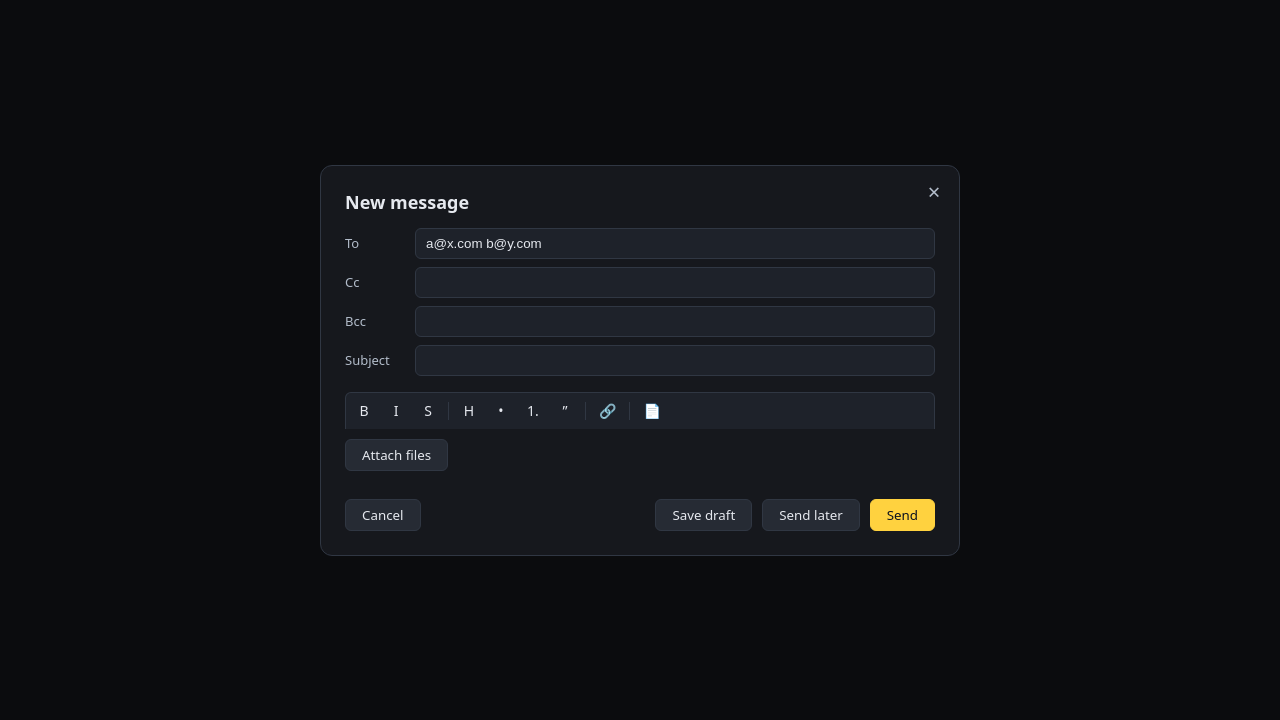
Test case: ComposeModal: separator correction › offers to fix a wrong separator and applies it without sending
This screenshot has width=1280, height=720.
Click the button "Send".
click(902, 514)  # box left=870, top=498, right=935, bottom=530
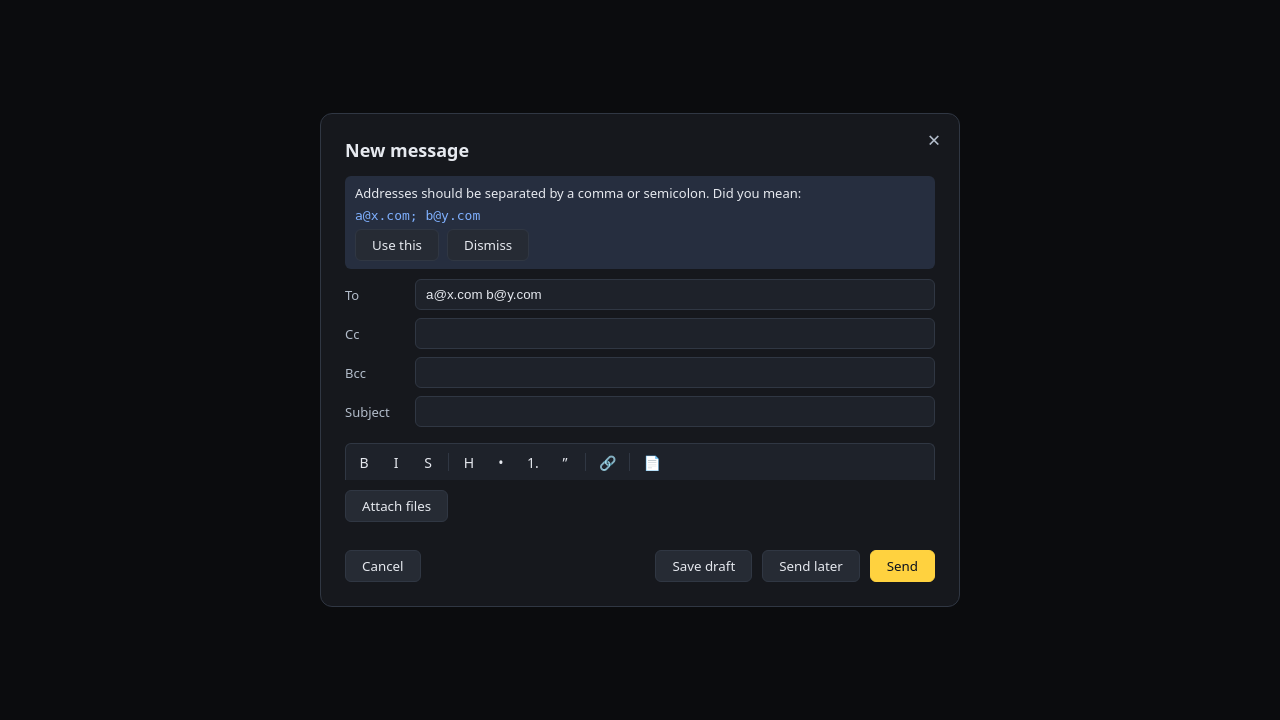
Expected: the text "Addresses should be separated" is shown, left=355, top=184, right=801, bottom=202
Click the button "Use this".
click(397, 245)  # box left=355, top=229, right=439, bottom=261
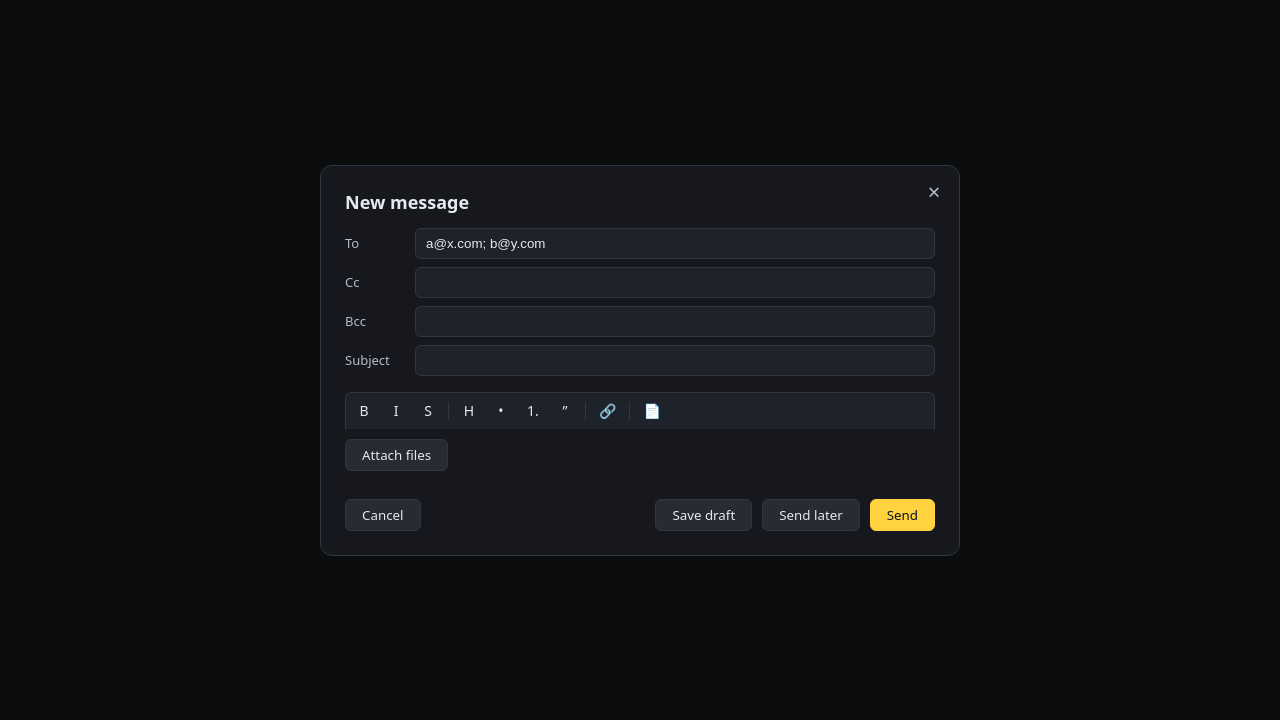
Expected: the field with placeholder "name@example.com, other@example.com" holds "a@x.com; b@y.com", left=415, top=228, right=935, bottom=258
Expected: the text "Addresses should be separated" is gone
